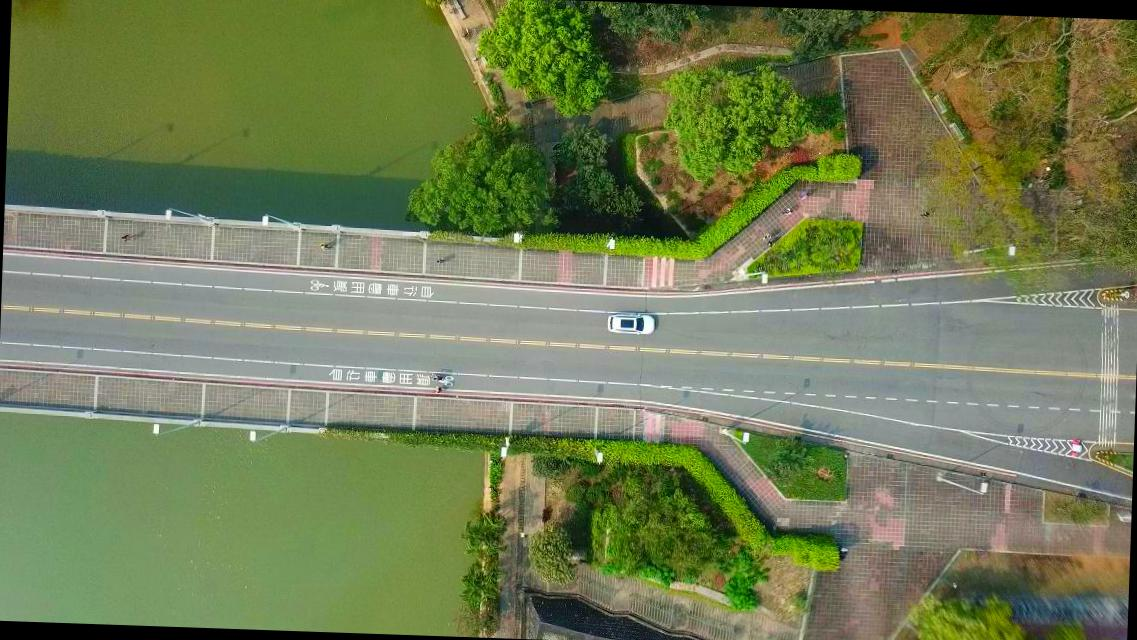vehicle: (606, 312, 656, 335)
